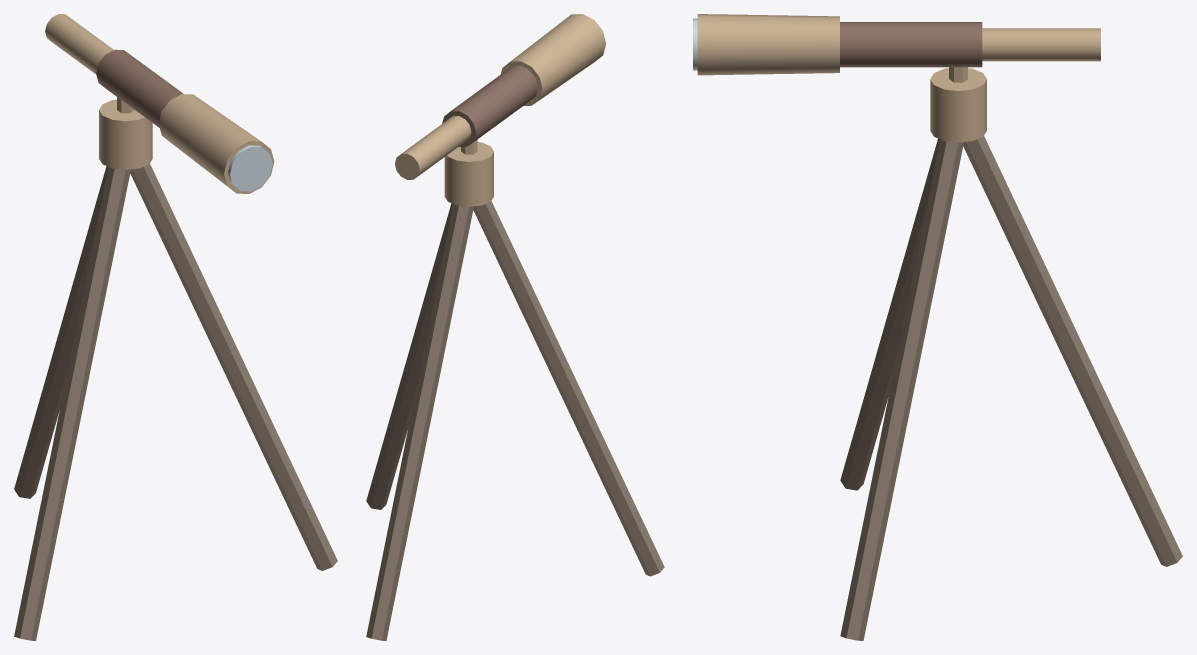
File: quest_spyglass.gltf
The picture shows the model from 3 angles, left to right: view 1: azimuth 30°, elevation 25°; view 2: azimuth 150°, elevation 25°; view 3: azimuth 270°, elevation 25°; orthographic projection. The views are drawn at different scales.
Visible parts, largest first — view 1: Body, Spin, GlowLens; view 2: Body, Spin; view 3: Body, Spin.
Boxes of the visible parts, x1,y1,x2,y2 form: Body: [14, 99, 337, 640]; Spin: [45, 14, 274, 193]; GlowLens: [228, 145, 272, 191]; Body: [366, 142, 664, 640]; Spin: [395, 14, 605, 179]; Body: [840, 68, 1182, 640]; Spin: [697, 14, 1100, 82].
Size of the model in its own units: 0.821 by 1.27 by 1.03.
